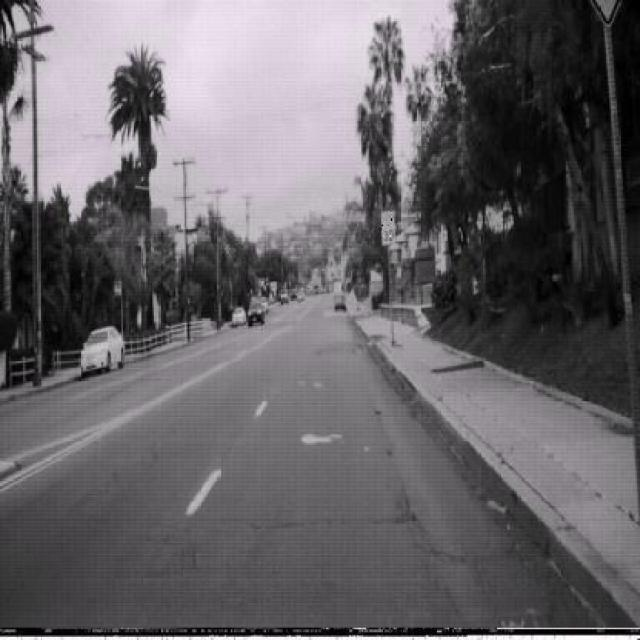speedLimit30: (380, 209, 397, 247)
